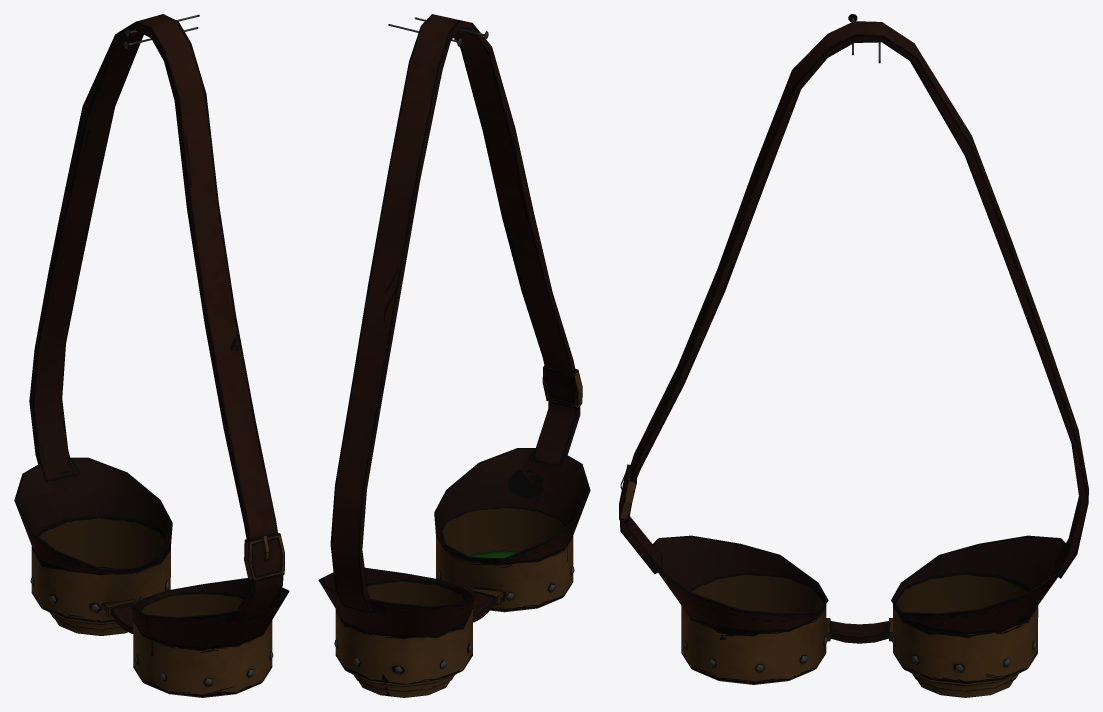
Rendered from GogglesNieuw.fbx.
3 views of the same model, side by side, from view 1: azimuth 30°, elevation 25°; view 2: azimuth 150°, elevation 25°; view 3: azimuth 270°, elevation 25° (orthographic). The views are drawn at different scales.
Parts seen in each view (by area): view 1: Goggles.001; view 2: Goggles.001; view 3: Goggles.001.
Boxes of the visible parts, x1=… form: Goggles.001: x1=14, y1=14, x2=289, y2=697; Goggles.001: x1=318, y1=14, x2=590, y2=697; Goggles.001: x1=619, y1=14, x2=1088, y2=697.
Bounding box in the file's own units: 3.6 × 16.45 × 10.71.
